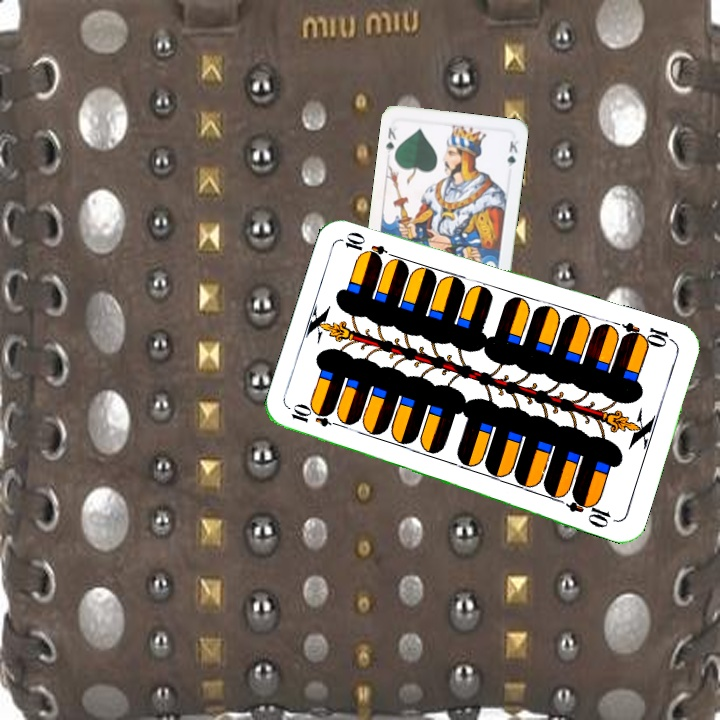E10: (618, 318, 677, 350), (287, 403, 346, 430)
GK: (382, 123, 400, 156)
